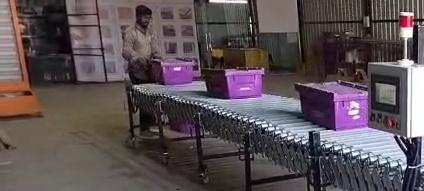box: (295, 82, 368, 129), (203, 68, 264, 98), (151, 60, 193, 84)
